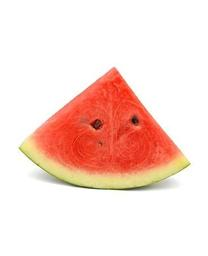watermelon: (21, 66, 192, 188)
